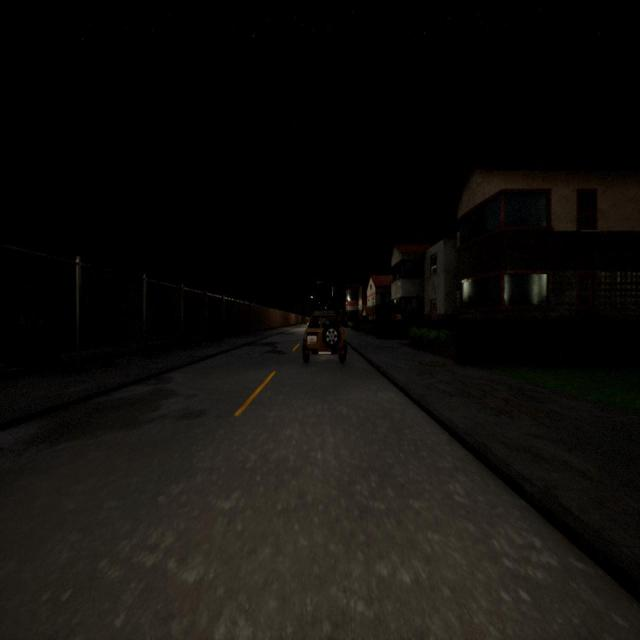Vehicle: (302, 312, 347, 363)
